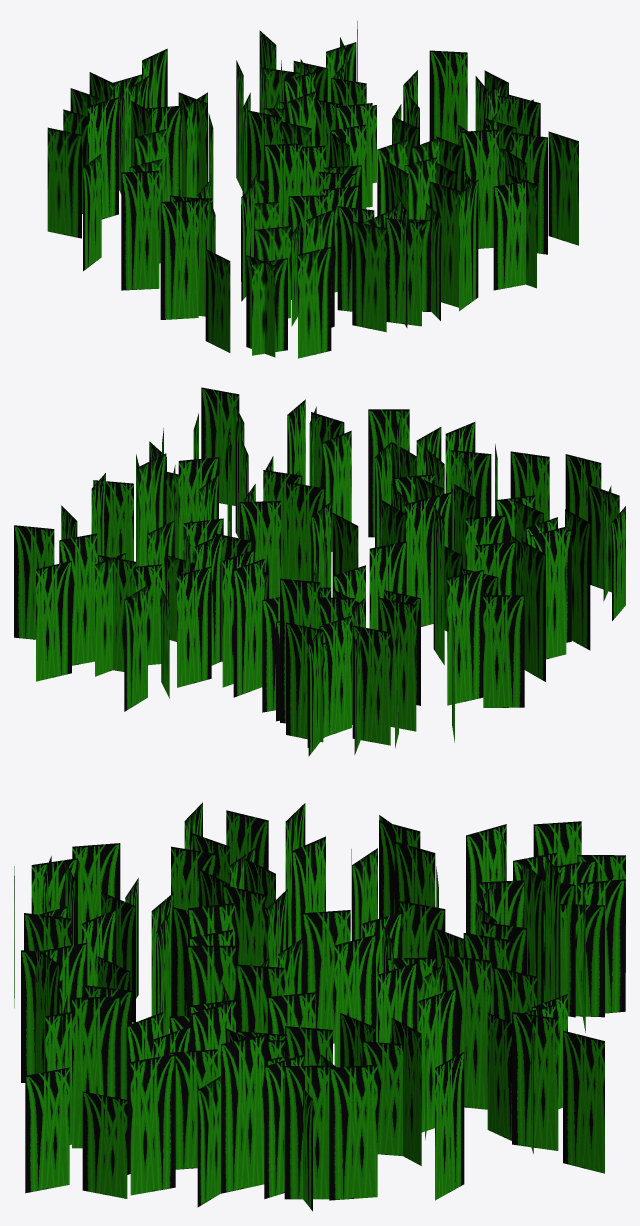
Rendered from grass.fbx.
The picture shows the model from 3 angles, top to bottom: view 1: azimuth 30°, elevation 25°; view 2: azimuth 150°, elevation 25°; view 3: azimuth 270°, elevation 25°; orthographic projection. The views are drawn at different scales.
Visible parts, largest first — view 1: Plane#2; view 2: Plane#2; view 3: Plane#2.
Boxes of the visible parts, left/top/right/bottom form: Plane#2: left=47, top=21, right=578, bottom=358; Plane#2: left=14, top=387, right=625, bottom=756; Plane#2: left=14, top=802, right=625, bottom=1211.
Bounding box in the file's own units: 1.28 × 0.3848 × 1.25.
1 material, 1 textured.
